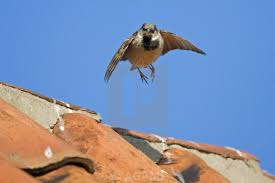hsparrow: (100, 21, 212, 92)
